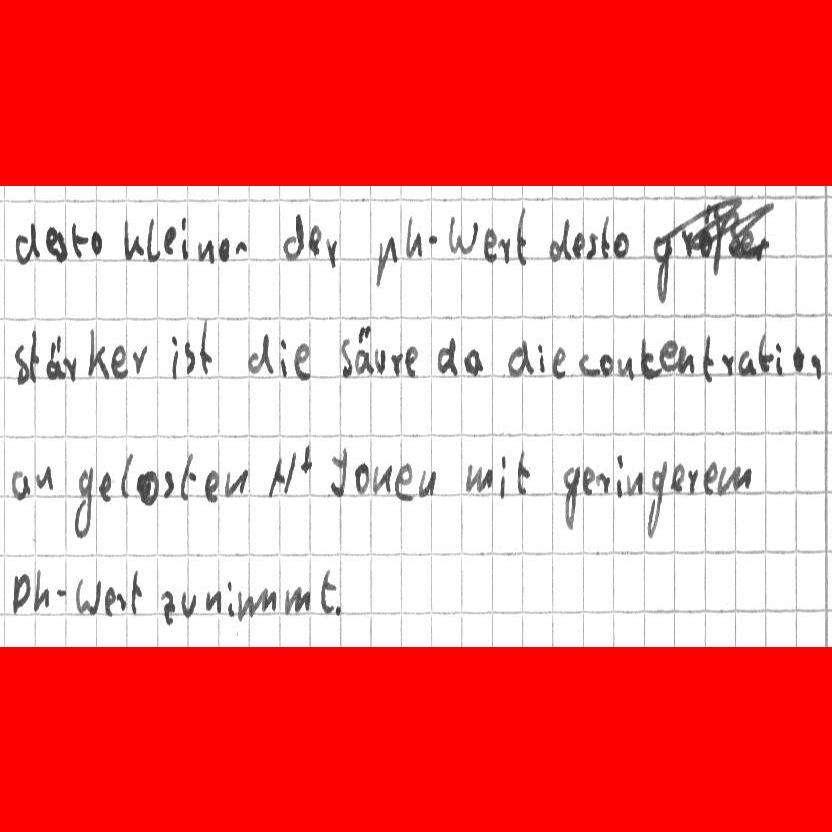Char: (644, 458, 668, 539), (72, 465, 97, 538), (559, 462, 582, 530), (266, 450, 296, 501), (373, 233, 400, 286), (448, 214, 481, 256), (715, 464, 757, 497), (236, 588, 276, 621), (282, 211, 307, 262), (13, 219, 41, 264), (86, 327, 110, 379), (353, 323, 376, 376), (325, 445, 348, 498), (246, 332, 274, 375), (73, 575, 102, 616), (281, 582, 314, 616), (548, 218, 572, 264), (178, 452, 200, 502), (197, 317, 215, 377), (393, 459, 417, 504), (507, 339, 534, 378), (402, 214, 424, 261), (514, 205, 531, 265), (463, 464, 495, 495), (436, 336, 460, 377), (122, 218, 145, 260), (292, 340, 315, 382), (44, 334, 64, 382), (513, 449, 533, 497), (136, 469, 161, 507), (317, 566, 336, 615), (32, 568, 52, 614), (144, 215, 163, 263), (9, 468, 34, 503), (67, 219, 89, 258), (699, 332, 715, 385), (13, 572, 31, 616), (202, 467, 222, 505), (117, 451, 133, 498), (224, 467, 248, 498), (639, 339, 658, 378), (33, 461, 56, 493), (130, 343, 151, 378), (129, 567, 144, 616), (736, 346, 759, 377), (178, 214, 193, 261), (372, 463, 394, 495), (109, 342, 128, 379), (550, 344, 569, 381), (13, 343, 29, 386), (167, 331, 181, 380), (660, 337, 679, 373), (480, 224, 497, 264), (701, 459, 719, 496), (160, 590, 179, 625), (756, 332, 773, 371), (462, 347, 483, 378), (402, 343, 420, 379), (676, 343, 695, 376), (577, 352, 599, 380), (418, 467, 437, 499), (610, 229, 630, 259), (352, 462, 370, 495), (60, 353, 81, 381), (325, 235, 341, 271), (615, 352, 633, 384), (29, 327, 39, 384), (498, 453, 510, 499), (613, 453, 625, 499), (339, 337, 353, 376), (162, 224, 179, 256), (307, 224, 323, 258), (182, 339, 197, 375), (181, 589, 199, 619), (279, 336, 291, 380), (535, 341, 551, 374), (809, 353, 826, 384), (299, 444, 315, 476), (161, 470, 178, 500), (204, 589, 224, 614), (599, 214, 610, 259), (88, 227, 105, 256), (101, 585, 115, 620), (593, 469, 611, 496), (791, 343, 806, 375), (669, 462, 684, 493), (495, 234, 511, 263), (97, 470, 111, 503), (582, 464, 596, 497), (225, 578, 236, 620), (197, 237, 214, 264), (216, 233, 231, 263), (625, 470, 643, 495), (599, 351, 615, 379), (684, 466, 698, 498), (720, 351, 737, 377), (231, 236, 250, 259), (585, 229, 599, 260), (45, 223, 57, 256), (56, 229, 67, 265), (373, 347, 386, 377), (389, 351, 403, 378), (774, 341, 784, 378), (571, 231, 584, 259), (114, 588, 126, 618), (428, 230, 441, 250), (329, 602, 345, 618), (54, 585, 68, 599)
